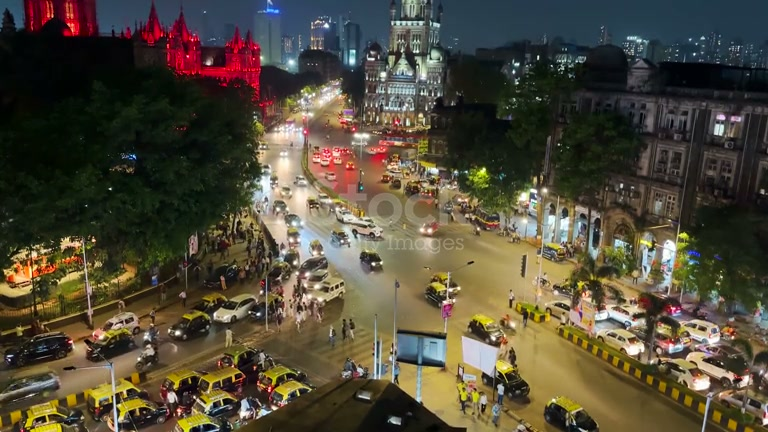car: (4, 332, 74, 369), (543, 394, 601, 432), (0, 372, 61, 407), (212, 294, 258, 325), (168, 310, 212, 341), (193, 390, 239, 418), (680, 319, 721, 347), (600, 329, 644, 354), (174, 413, 223, 432), (299, 256, 329, 286), (595, 308, 635, 330), (359, 250, 384, 272)
pedestrian: (490, 396, 502, 428), (477, 390, 488, 417), (520, 304, 528, 327), (328, 326, 336, 348), (508, 288, 515, 310)
